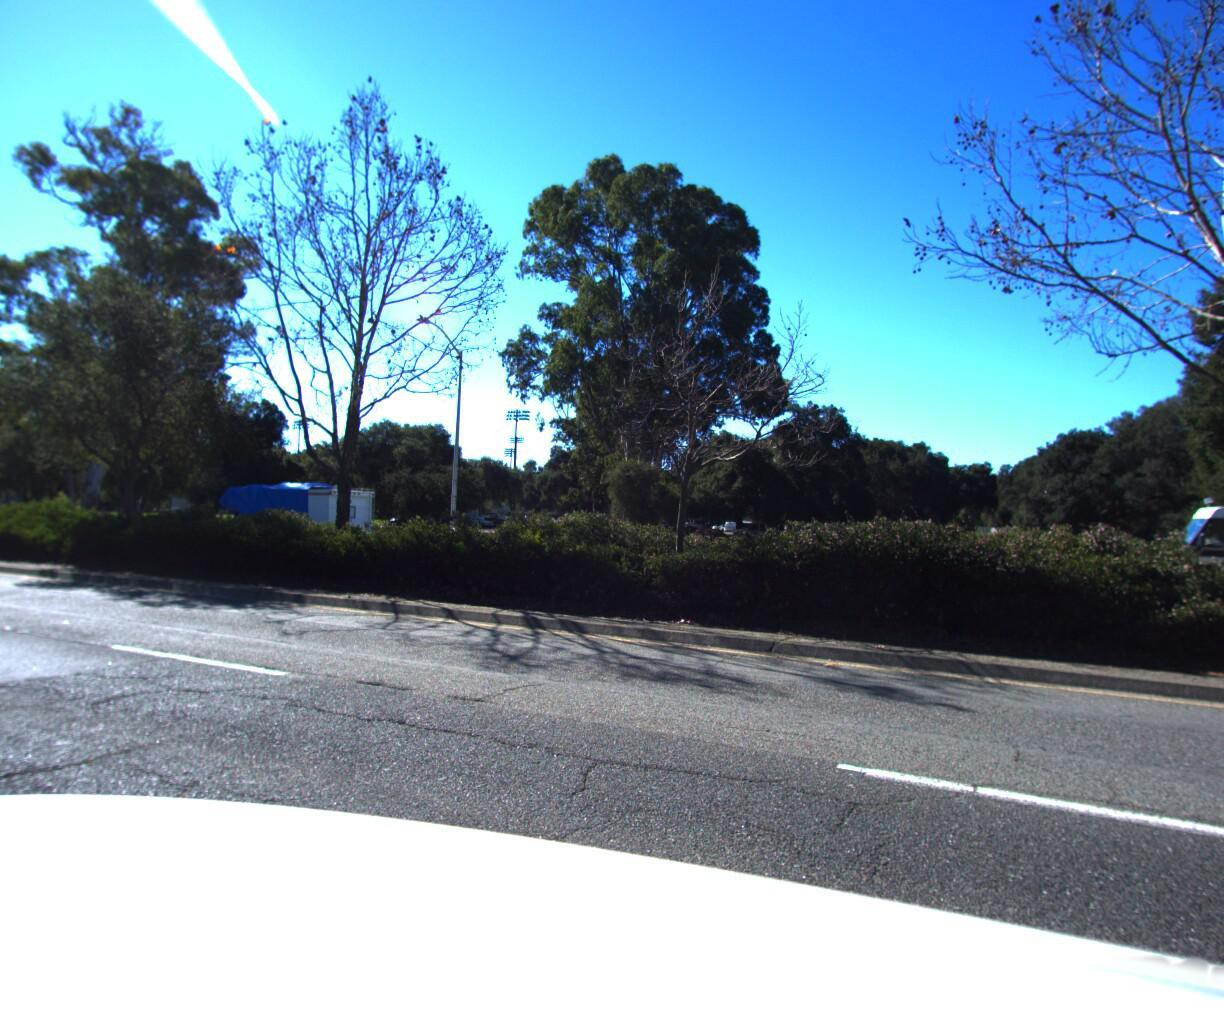other_vehicle: (207, 473, 382, 558), (1150, 461, 1224, 651)
